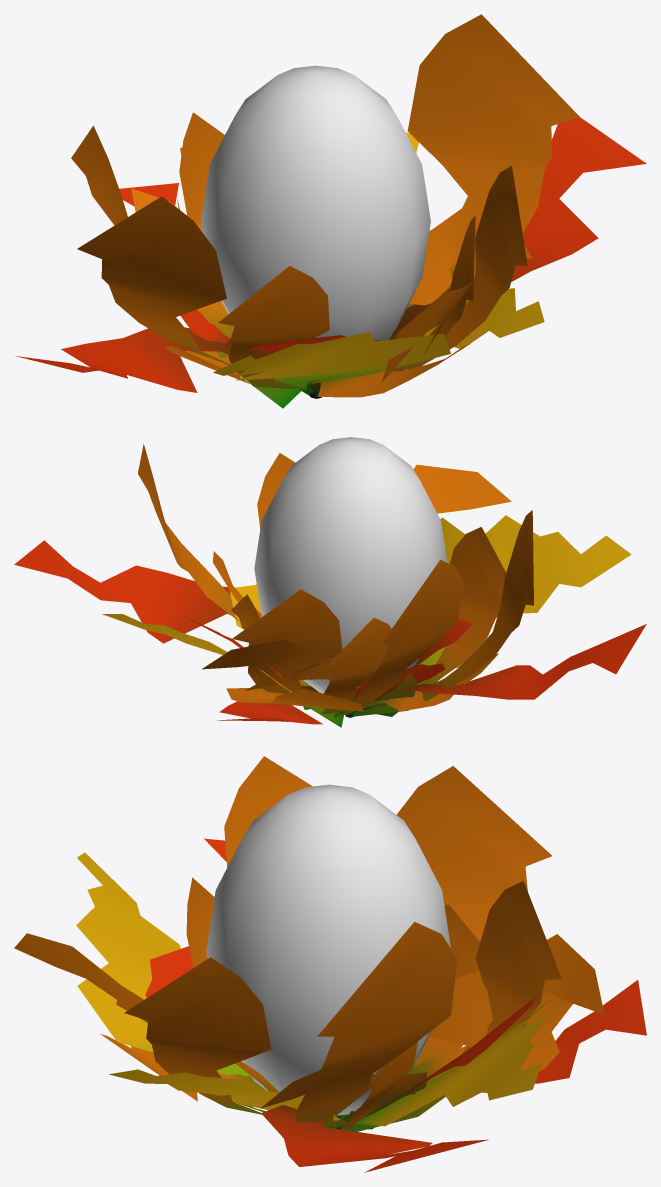
File: SM_LightOrb_1.fbx
3 views of the same model, one above another, from view 1: azimuth 30°, elevation 25°; view 2: azimuth 150°, elevation 25°; view 3: azimuth 270°, elevation 25° (orthographic). The views are drawn at different scales.
Parts seen in each view (by area): view 1: Sphere, Seaweed_LOD0_Var1_sdmmR_1.002, Seaweed_LOD0_Var1_sdmmR_1, Seaweed_LOD0_Var1_sdmmR_1.001; view 2: Sphere, Seaweed_LOD0_Var1_sdmmR_1.002, Seaweed_LOD0_Var1_sdmmR_1, Seaweed_LOD0_Var1_sdmmR_1.001; view 3: Seaweed_LOD0_Var1_sdmmR_1.002, Sphere, Seaweed_LOD0_Var1_sdmmR_1, Seaweed_LOD0_Var1_sdmmR_1.001.
Boxes of the visible parts, left/top/right/bottom form: Sphere: left=201, top=65, right=430, bottom=340; Seaweed_LOD0_Var1_sdmmR_1.002: left=71, top=14, right=646, bottom=398; Seaweed_LOD0_Var1_sdmmR_1: left=15, top=132, right=527, bottom=408; Seaweed_LOD0_Var1_sdmmR_1.001: left=119, top=112, right=544, bottom=395; Sphere: left=254, top=437, right=447, bottom=693; Seaweed_LOD0_Var1_sdmmR_1.002: left=14, top=444, right=631, bottom=717; Seaweed_LOD0_Var1_sdmmR_1: left=102, top=453, right=646, bottom=717; Seaweed_LOD0_Var1_sdmmR_1.001: left=213, top=527, right=505, bottom=727; Seaweed_LOD0_Var1_sdmmR_1.002: left=14, top=766, right=572, bottom=1172; Sphere: left=206, top=784, right=450, bottom=1115; Seaweed_LOD0_Var1_sdmmR_1: left=100, top=756, right=604, bottom=1126; Seaweed_LOD0_Var1_sdmmR_1.001: left=109, top=877, right=646, bottom=1131.
Size of the model in its own units: 75.52 by 35.54 by 59.31.
